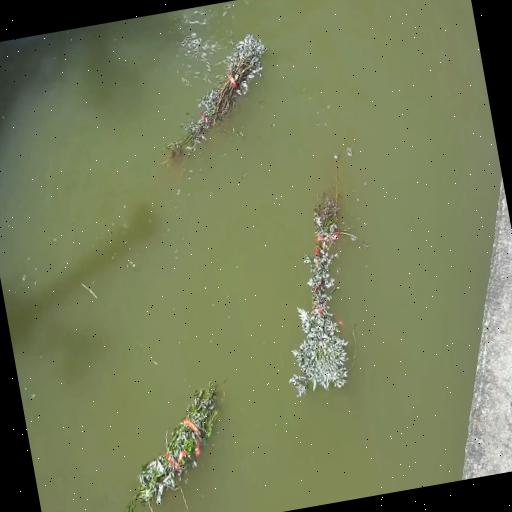twig: (290, 152, 358, 397), (166, 34, 266, 157), (127, 383, 218, 511)
